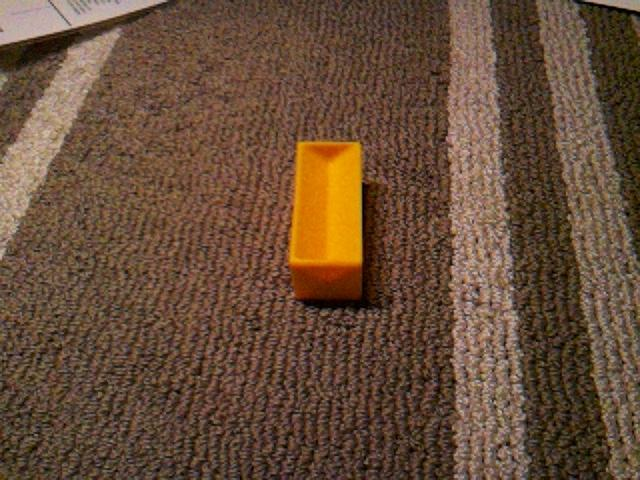yellow: (288, 140, 365, 303)
